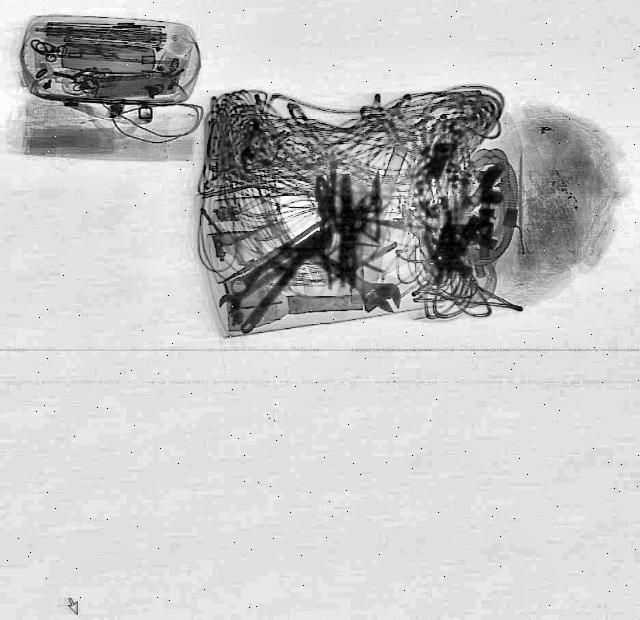Wrench: (296, 239, 412, 327), (216, 254, 298, 320)
